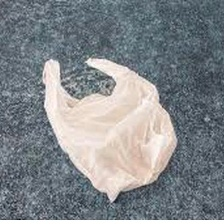plastic_bag: (37, 48, 190, 206)
